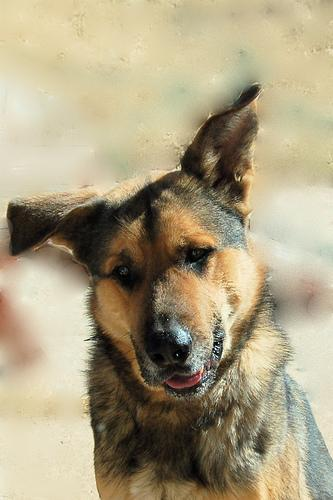German_shepherd: (6, 82, 331, 498)
